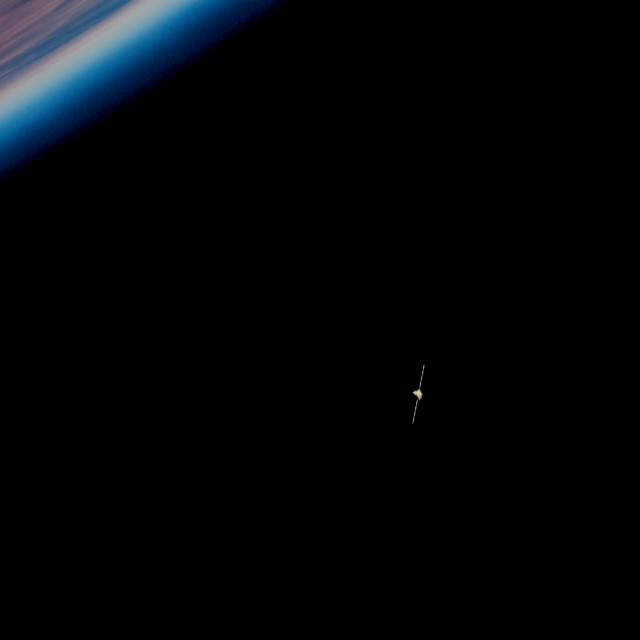satellite: (371, 343, 445, 443)
